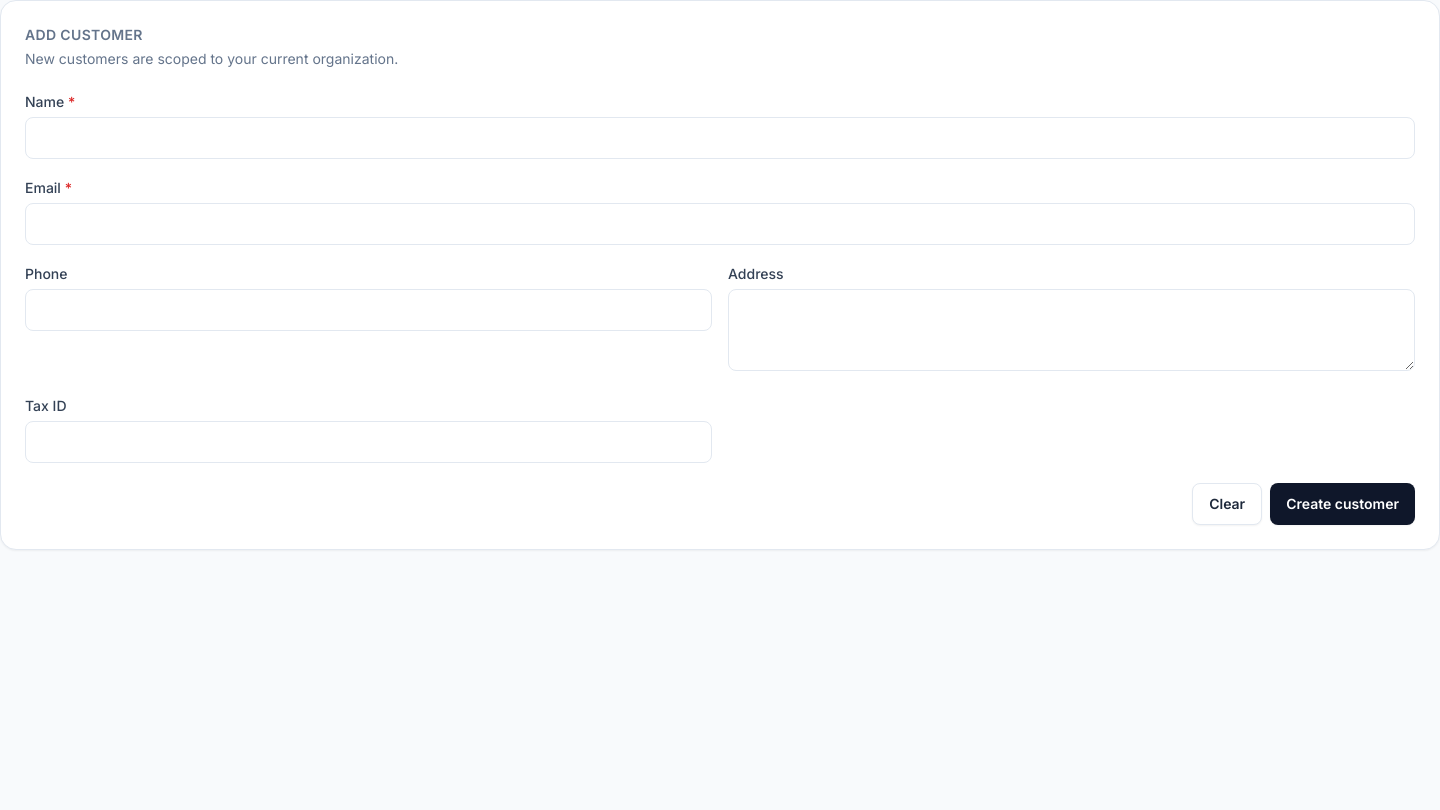
Test: CustomerForm -- Phase UX5 duplicate detection › Cancel closes the dialog without creating, and the form is still editable
Type "New Customer" into the field labelled "Name *".
click(720, 138); type("New Customer")  # box [25, 117, 1415, 159]
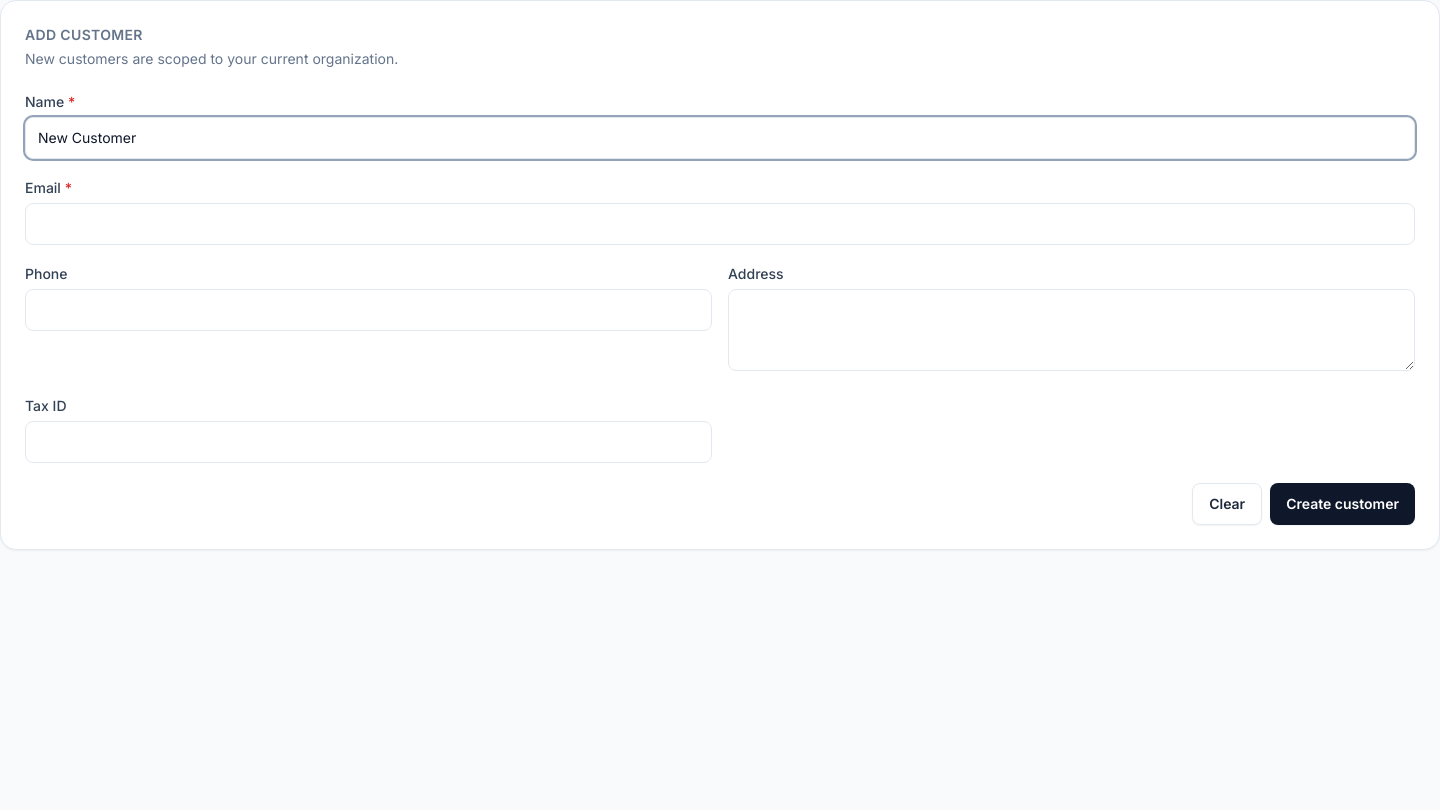
Type "new@example.com" into the field labelled "Email *".
click(720, 224); type("new@example.com")  # box [25, 203, 1415, 245]
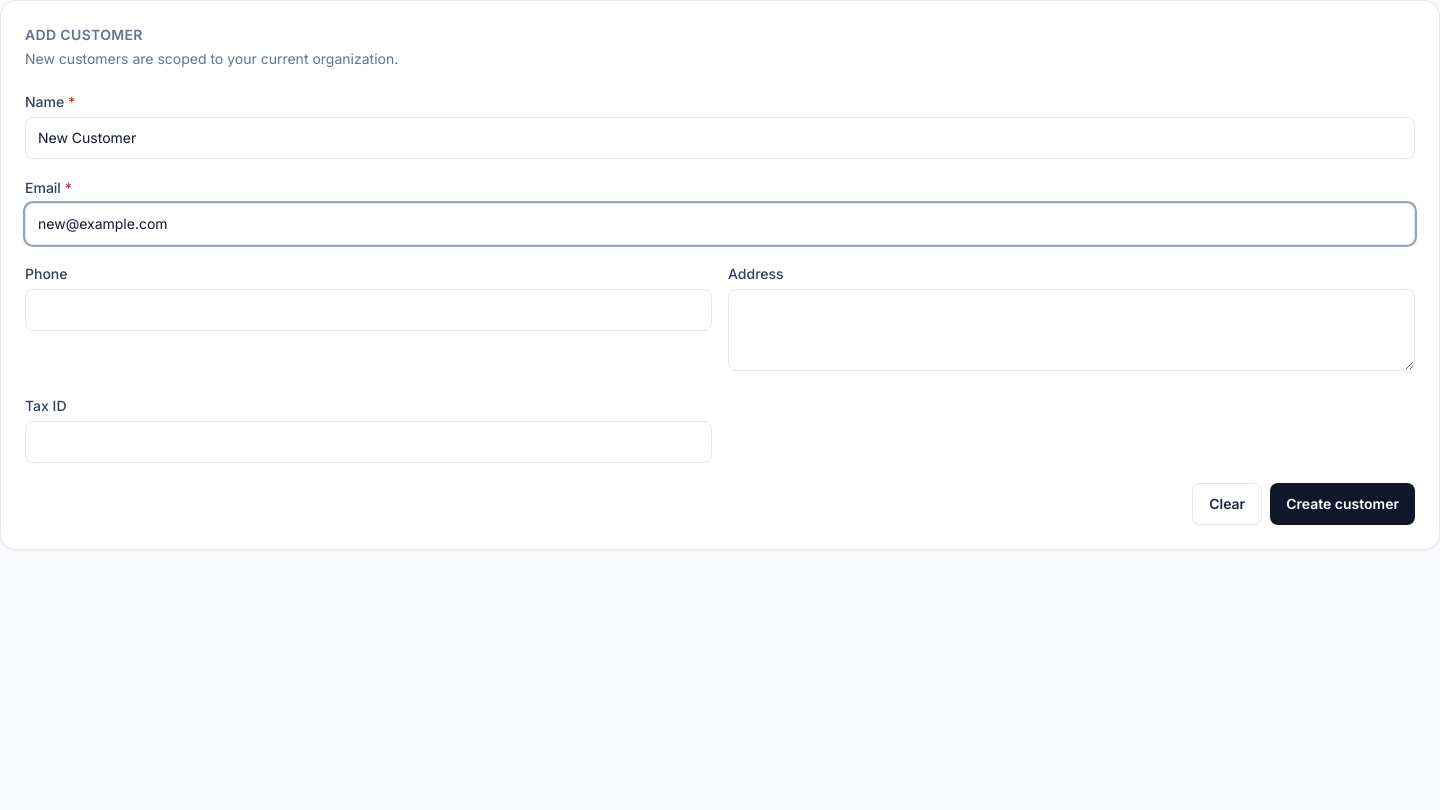
Click the button "Create customer".
click(1343, 504)  # box [1270, 483, 1415, 525]
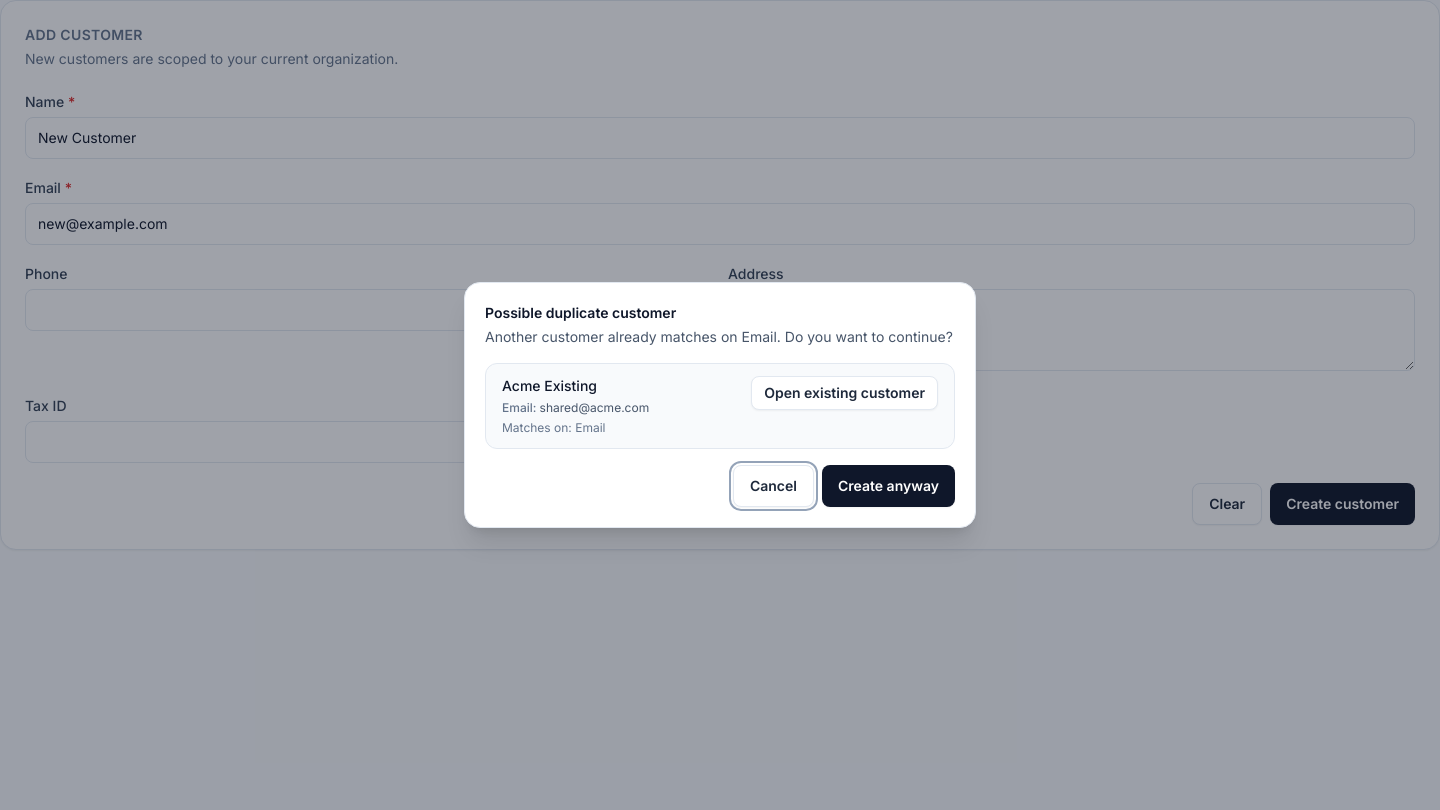
Click the button "Cancel".
click(773, 486)  # box [733, 465, 814, 507]
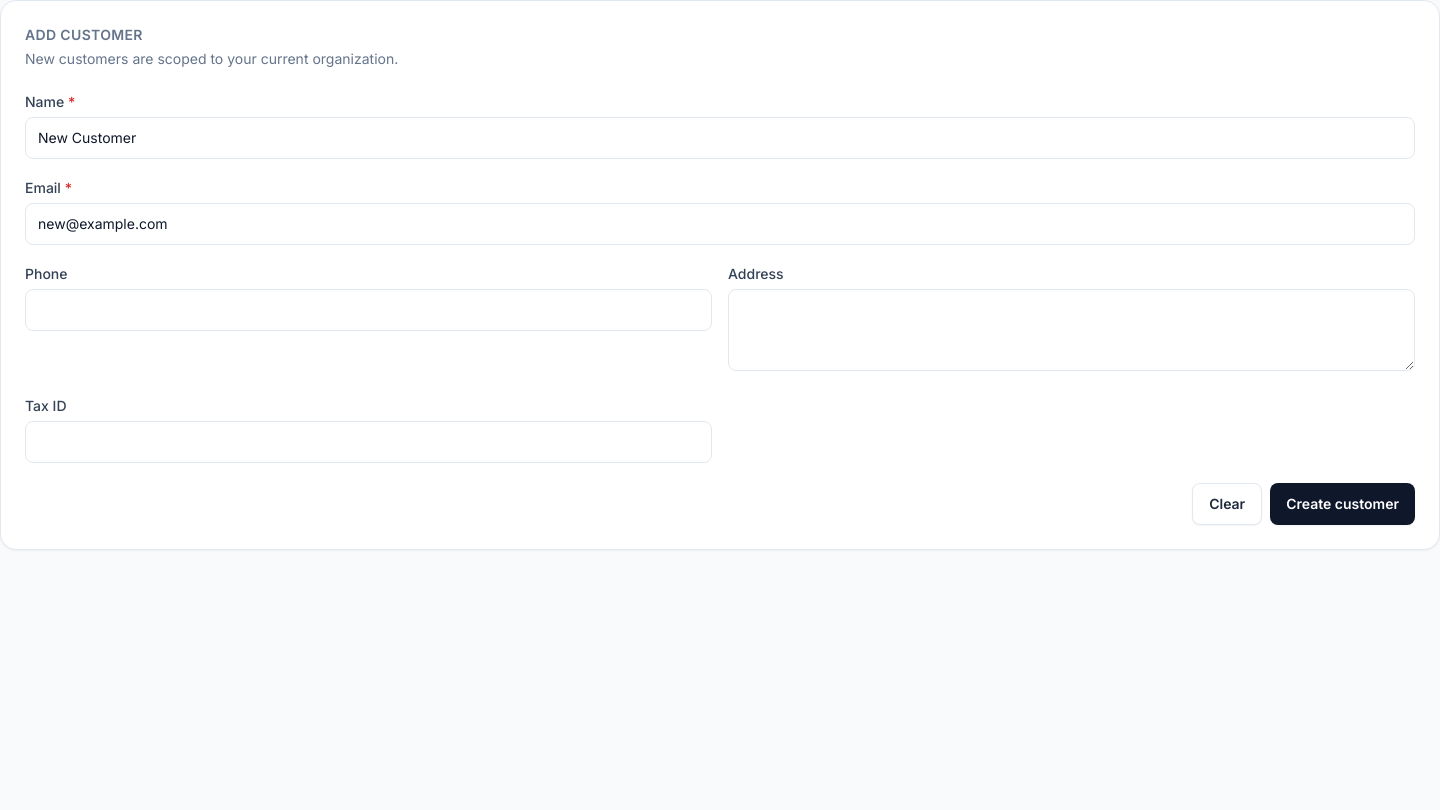
Now the dialog is gone
